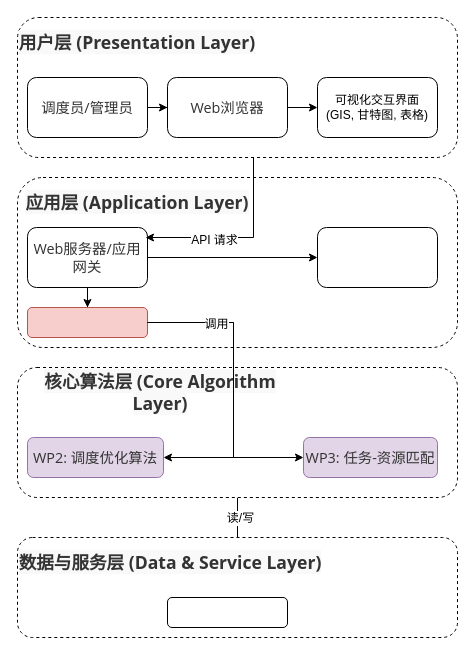
This 475x655 diagram has some shape labels left out. Here are the shapes that lost their labels. From the top down, the centre of each, then its label:
At point 377,257: "用户与权限管理 任务与资源管理".
At point 87,322: "智能调度核心引擎".
At point 227,612: "项目数据库".
